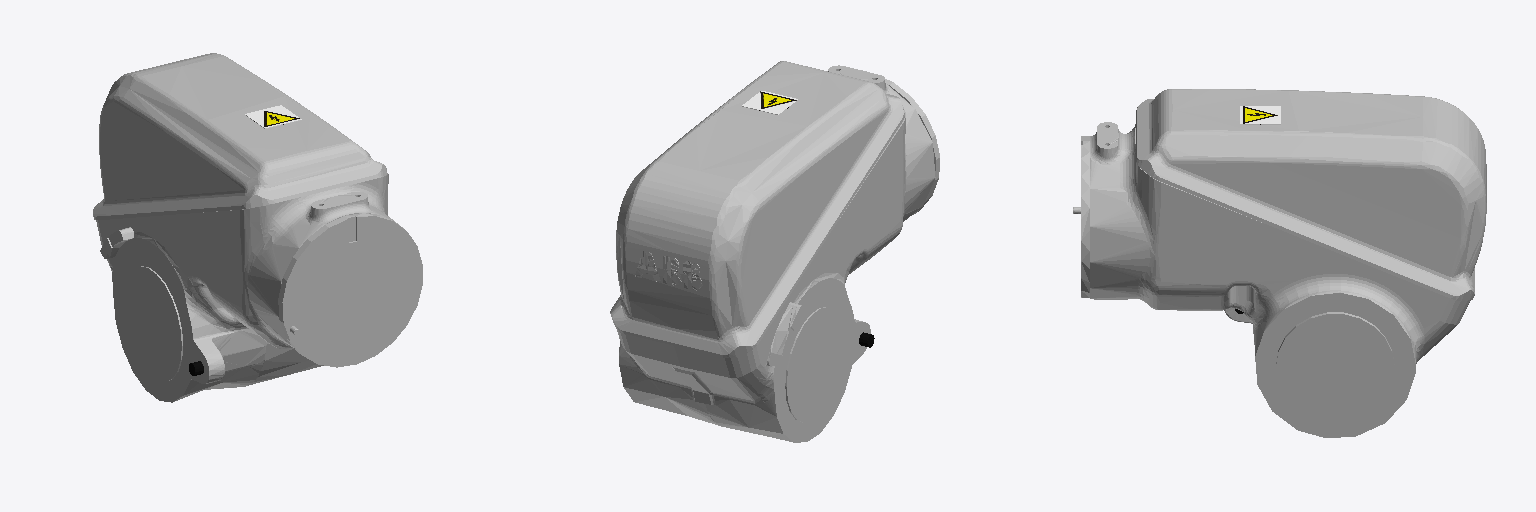
3 views of the same model, side by side, from view 1: azimuth 30°, elevation 25°; view 2: azimuth 150°, elevation 25°; view 3: azimuth 270°, elevation 25° (orthographic).
Visible parts, largest first — view 1: IRB120_3_58_IRC5_Link3_rev003, Box511; view 2: IRB120_3_58_IRC5_Link3_rev003, Box511; view 3: IRB120_3_58_IRC5_Link3_rev003, Box511.
Boxes of the visible parts, x1,y1,x2,y2 form: IRB120_3_58_IRC5_Link3_rev003: [93, 53, 422, 402]; Box511: [245, 105, 301, 128]; IRB120_3_58_IRC5_Link3_rev003: [610, 61, 939, 442]; Box511: [742, 91, 798, 114]; IRB120_3_58_IRC5_Link3_rev003: [1073, 89, 1486, 437]; Box511: [1240, 106, 1280, 124].
Bounding box in the file's own units: 116 × 188 × 244.
Materials: 3 (1 with a texture image).